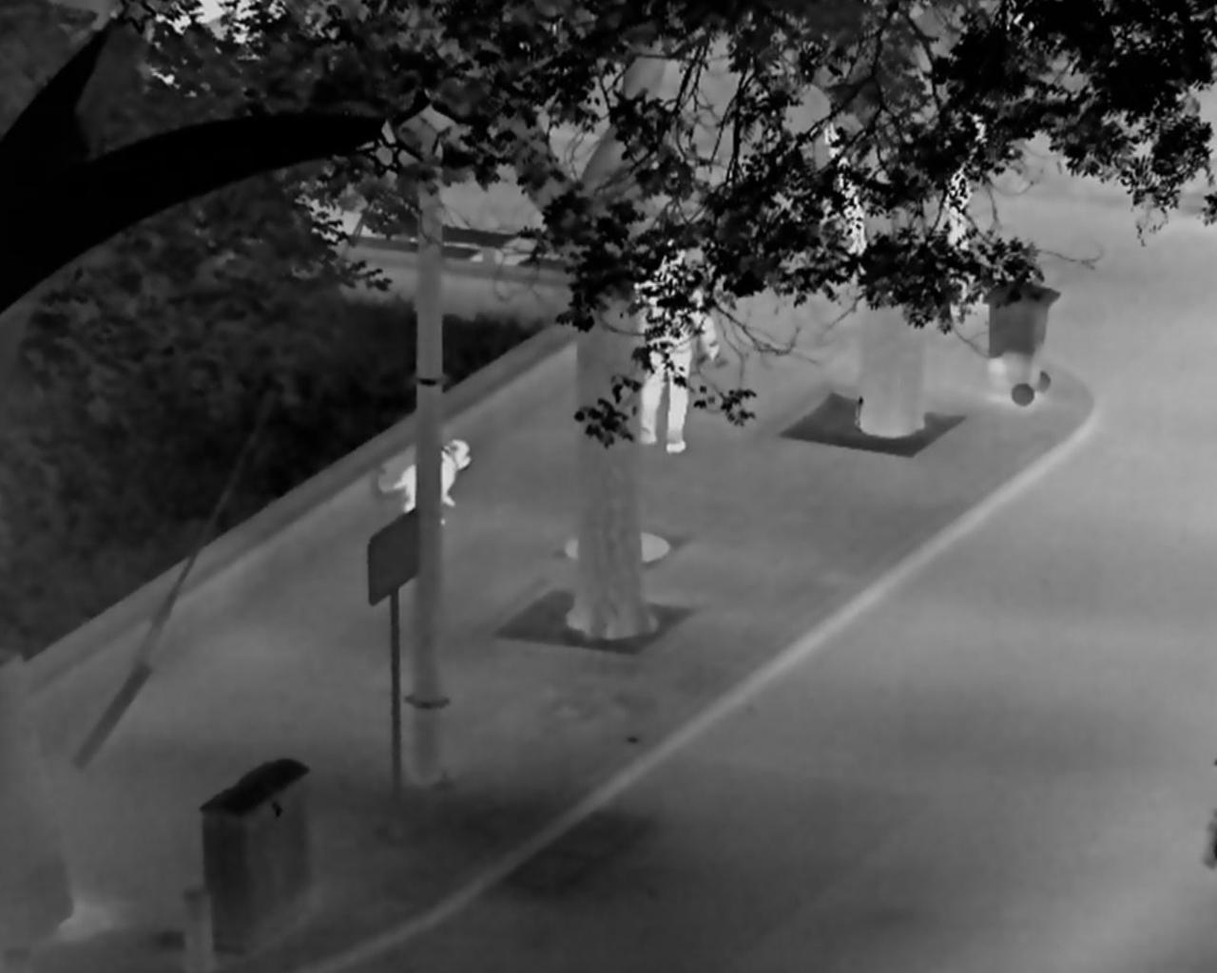person: (632, 238, 720, 452), (807, 118, 874, 277), (934, 112, 988, 304)
